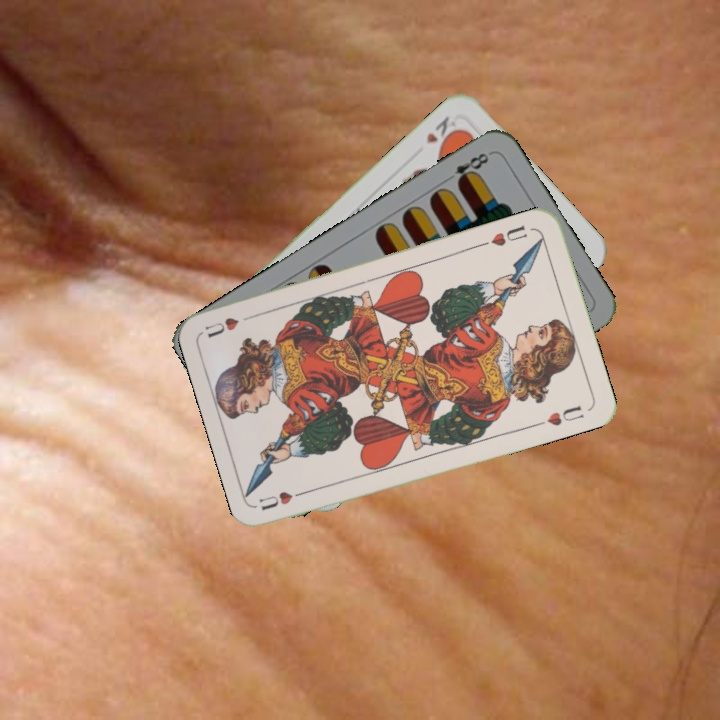E8: (440, 148, 494, 188)
HK: (421, 112, 462, 151)
HU: (254, 485, 313, 513), (487, 221, 530, 249)
